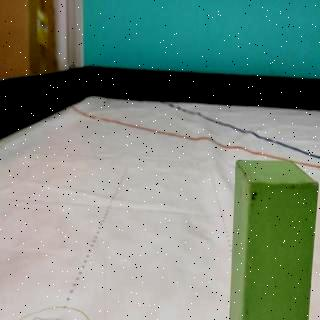greenbox: (228, 156, 320, 320)
